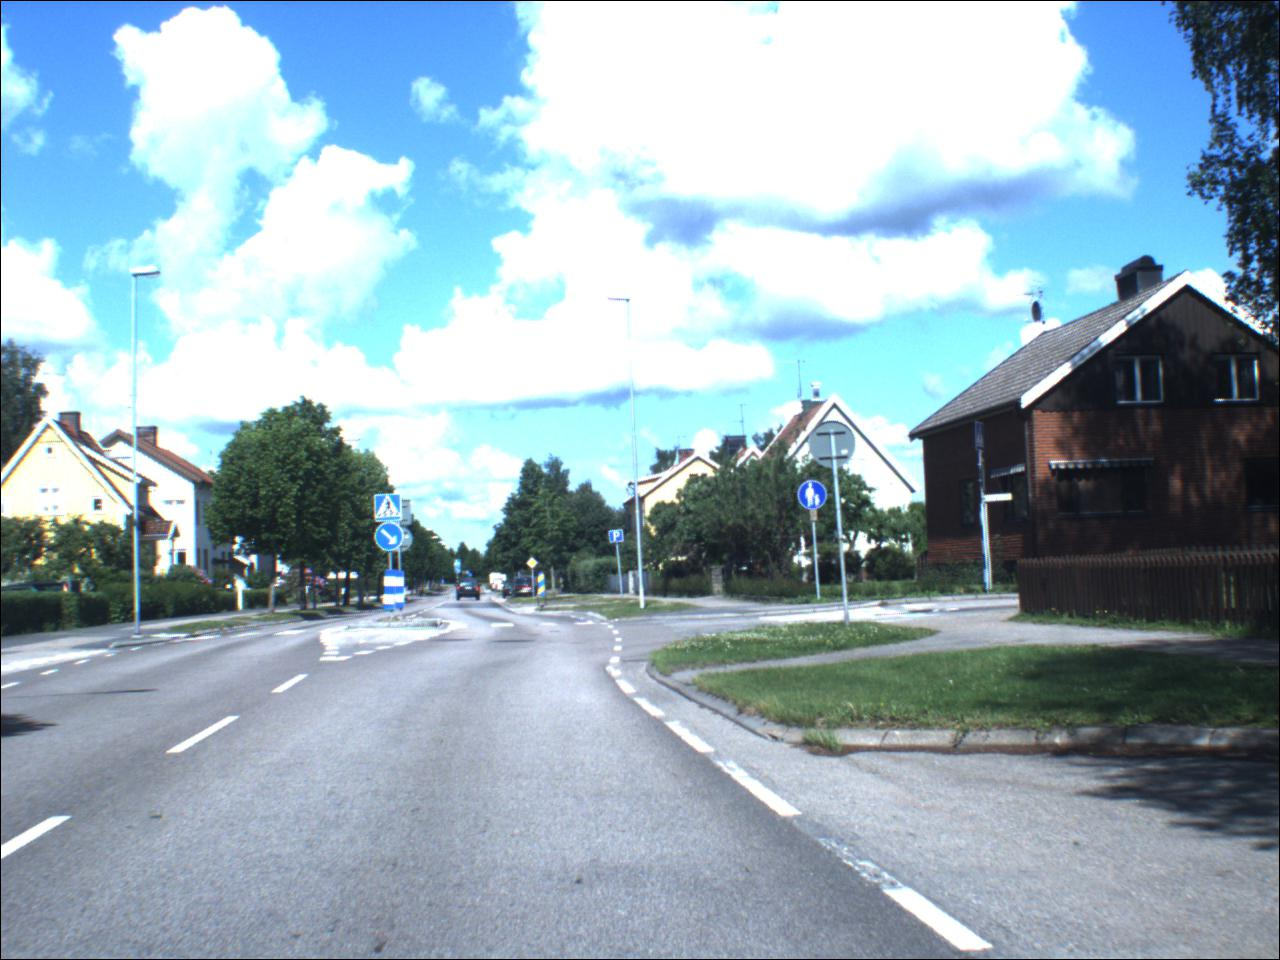PASS_RIGHT_SIDE: (375, 524, 406, 554), (456, 568, 464, 575)
PEDESTRIAN_CROSSING: (377, 496, 405, 524), (975, 421, 987, 452), (457, 560, 463, 570)
PRIORITY_ROAD: (528, 558, 542, 571)
